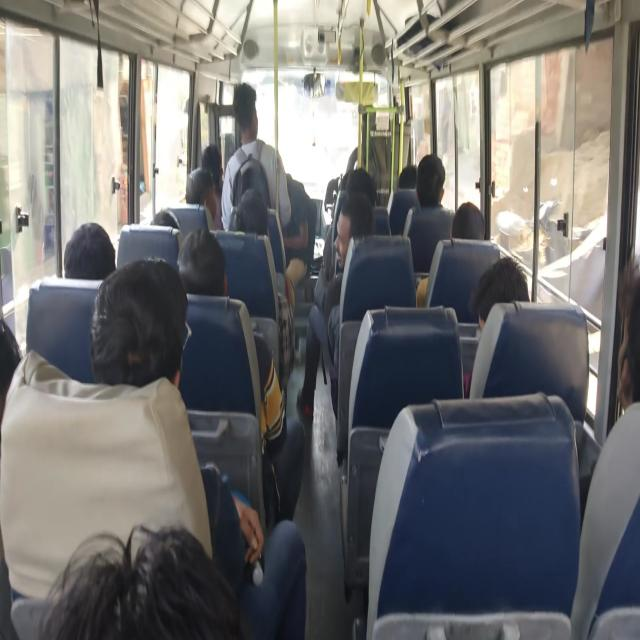person: (68, 491, 266, 640), (101, 273, 181, 376), (606, 258, 640, 427), (269, 161, 306, 265), (481, 251, 524, 340), (183, 237, 232, 310), (0, 300, 27, 424), (328, 206, 374, 260), (233, 188, 267, 245), (446, 198, 486, 242), (182, 163, 217, 211), (71, 220, 106, 265), (416, 148, 441, 208), (333, 160, 366, 199), (233, 87, 256, 142), (348, 179, 375, 216), (200, 147, 223, 182), (238, 176, 264, 204), (394, 167, 417, 191), (150, 215, 178, 230)
